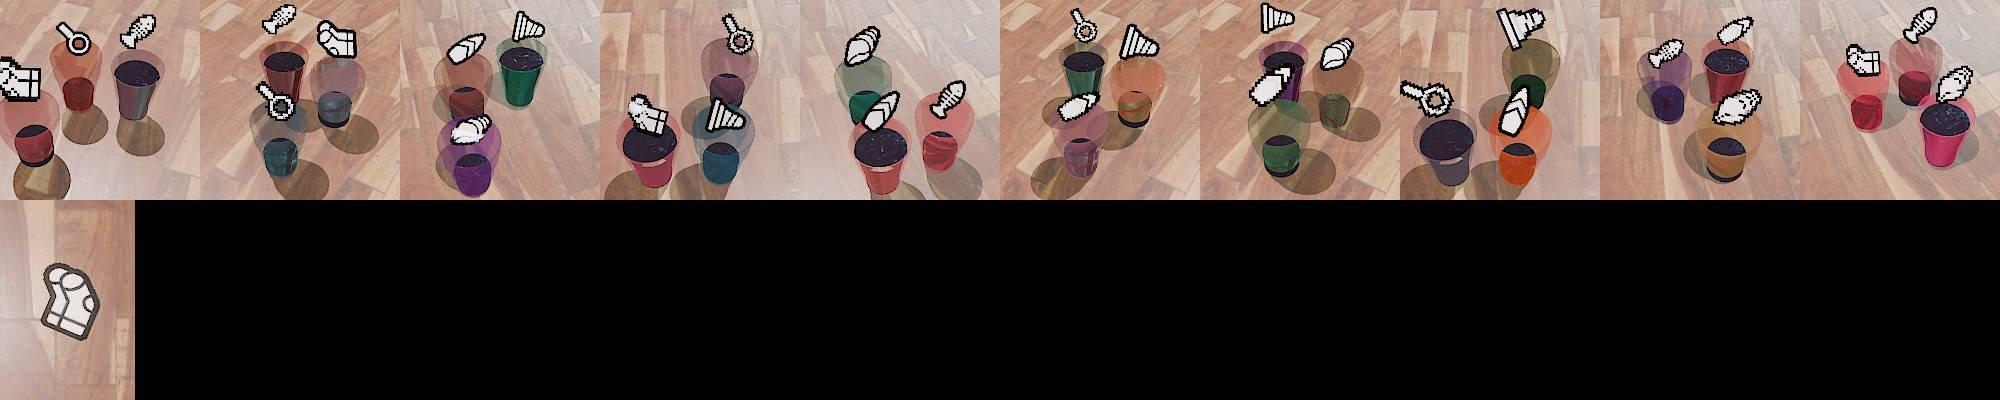icon: (38, 261, 101, 341), (1495, 6, 1547, 52), (1404, 79, 1458, 121), (1249, 62, 1297, 107), (1496, 82, 1533, 138), (1712, 87, 1761, 125), (628, 92, 671, 134), (0, 57, 42, 101), (255, 79, 297, 121), (862, 87, 902, 131), (843, 24, 883, 68), (316, 19, 357, 60), (1119, 22, 1159, 61), (1937, 64, 1976, 104), (930, 78, 967, 118), (707, 94, 747, 131), (719, 13, 755, 55), (1055, 89, 1099, 122), (55, 20, 94, 57), (445, 31, 486, 66), (449, 113, 492, 145), (1844, 43, 1881, 78), (1716, 15, 1755, 47), (1647, 37, 1686, 69), (121, 13, 156, 48), (1904, 8, 1937, 45), (1320, 37, 1355, 71), (510, 9, 546, 42), (261, 4, 297, 36), (1260, 3, 1296, 34), (1069, 8, 1098, 43)
